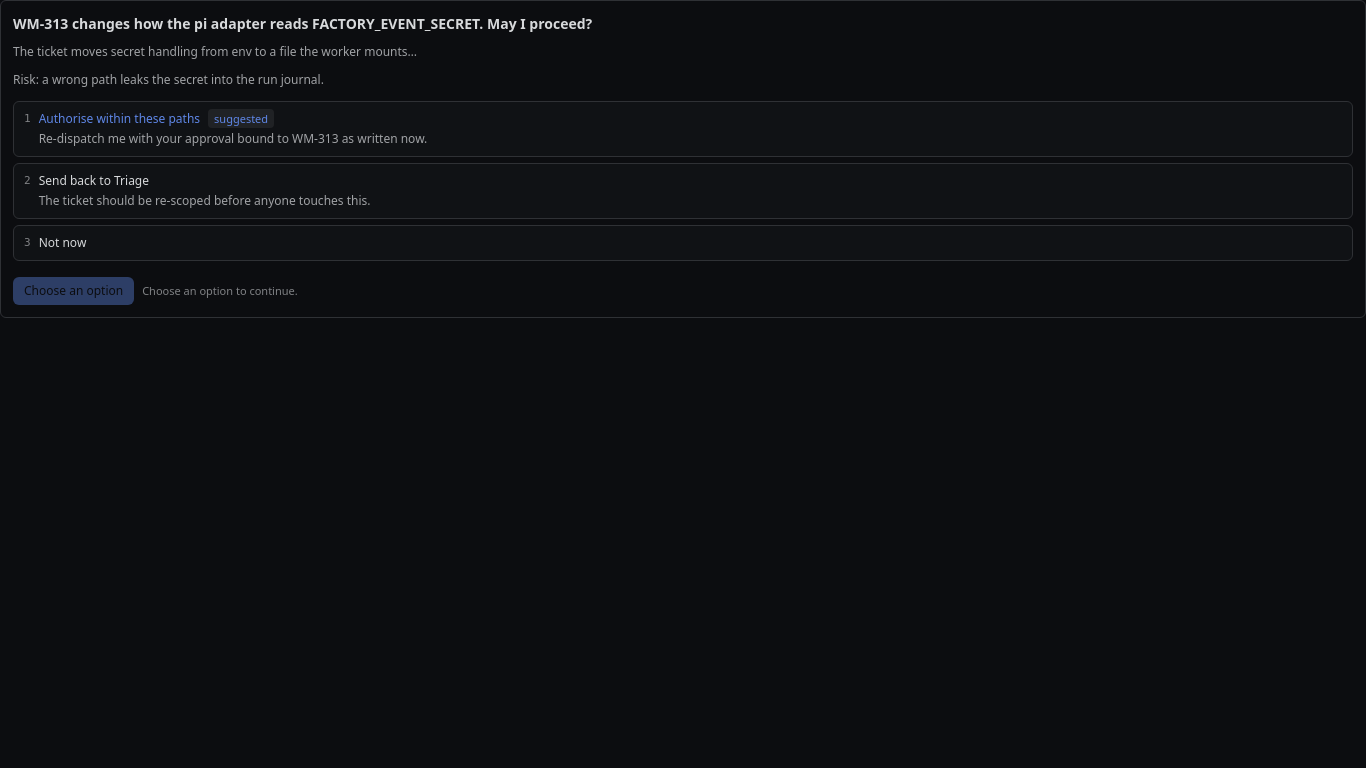
Test case: DecisionCard › renders the §2.1 options recommended-first and gates its fields
Check: the button that starts with "Send back to Triage" is shown, box [13, 163, 1353, 219]
Check: the button "3 Not now" is shown, box [13, 225, 1353, 261]
What coordinates should you click on to do the following:
click the button that starts with "Authorise within these paths"
I would click on:
 (119, 118)
Its box is [13, 101, 1353, 157].
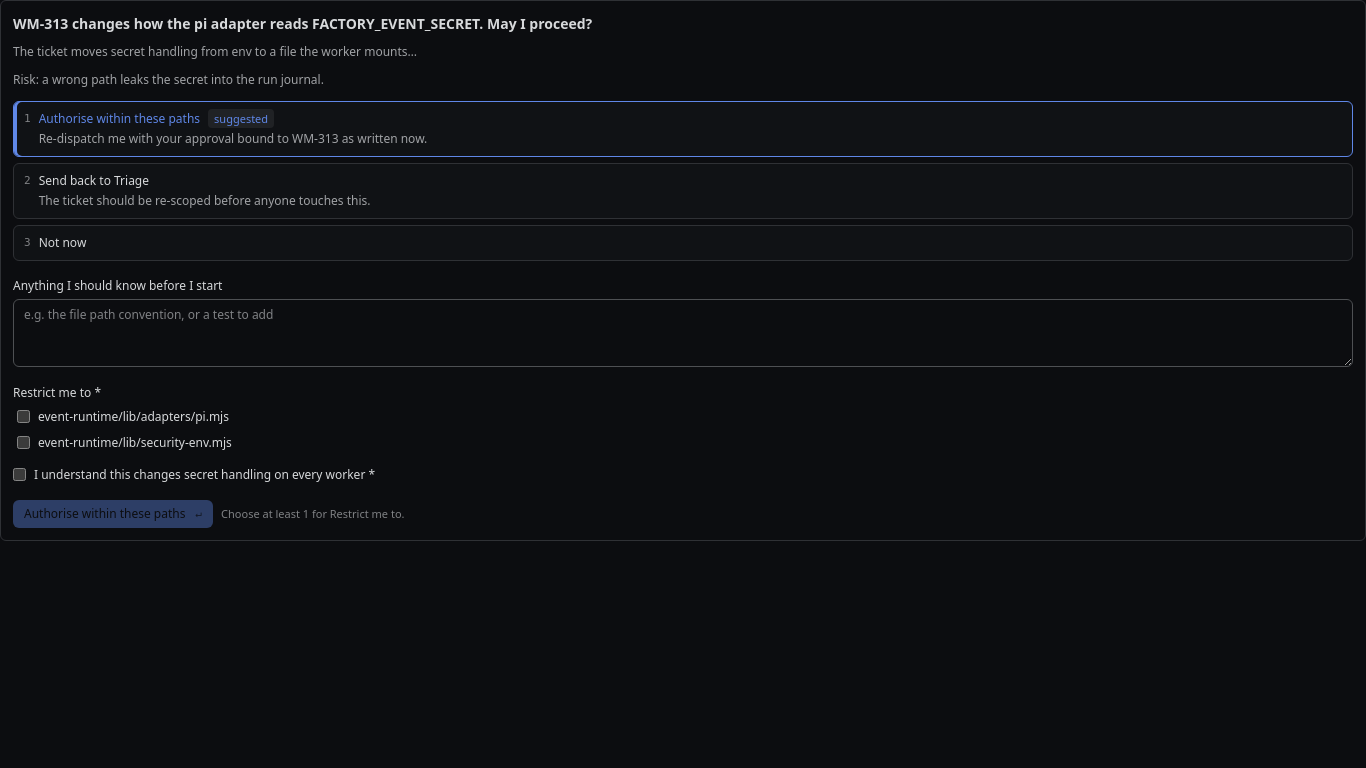
Check: the element "Restrict me to" is shown, box [13, 384, 232, 451]
Check: the checkbox labelled "I understand this changes secret handling on every worker *" is shown, box [13, 468, 26, 481]
